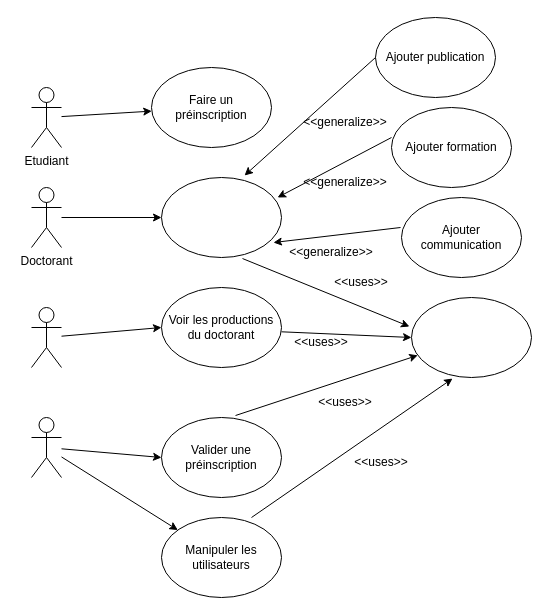
The diagram is 549 pixels wide and 615 high, and some of its shapes have lost their labels. Each missing label, with the centre of its shape:
"Admin" goes at point 46,447.
"Ajouter une production" goes at point 221,217.
"Professeur" goes at point 46,337.
"S'authentifier" goes at point 471,337.
